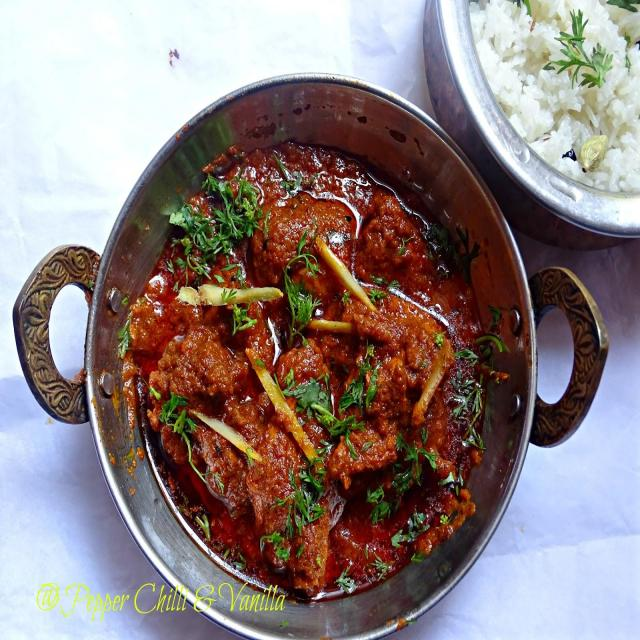chicken: (123, 148, 504, 599)
rice: (482, 2, 640, 198)
